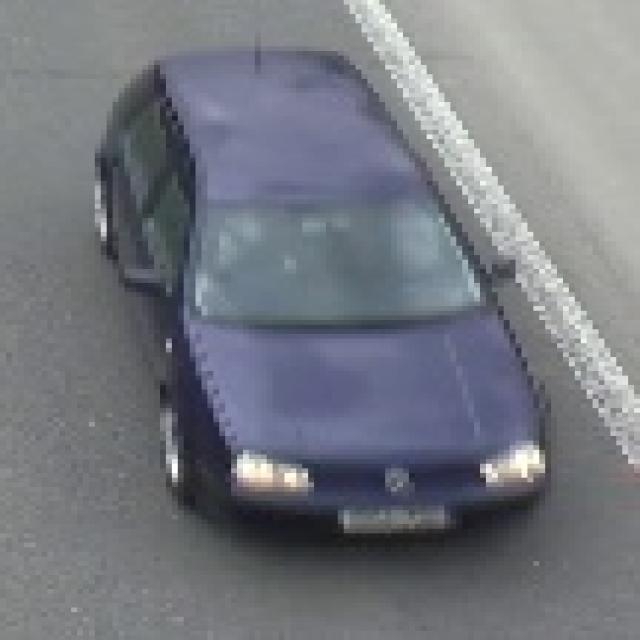blue: (86, 48, 558, 540)
